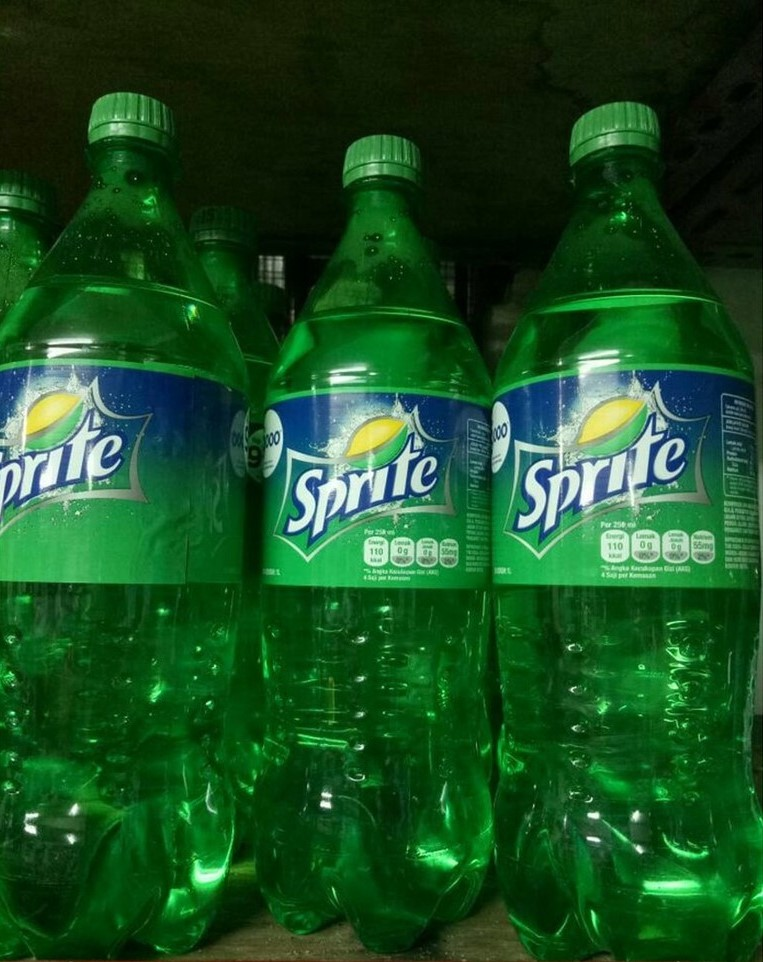sprite: (2, 377, 154, 545), (521, 404, 708, 534), (282, 412, 457, 547)
